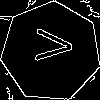V: (26, 27, 73, 63)
